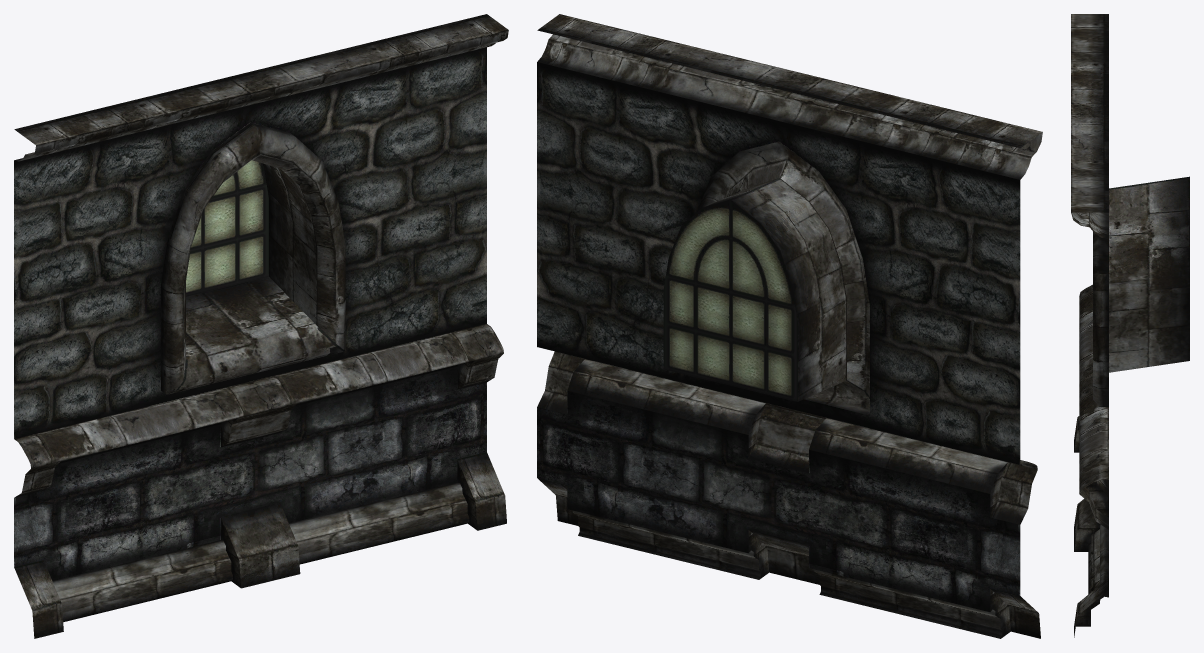
File: window_yellow.dae
The picture shows the model from 3 angles, left to right: view 1: azimuth 30°, elevation 25°; view 2: azimuth 150°, elevation 25°; view 3: azimuth 270°, elevation 25°; orthographic projection. The views are drawn at different scales.
Parts seen in each view (by area): view 1: polySurface105, polySurface102; view 2: polySurface105, polySurface102; view 3: polySurface105.
Part boxes in pixels (x1,y1,x2,y2): polySurface105: (14,14,508,638); polySurface102: (186,160,268,296); polySurface105: (537,14,1042,638); polySurface102: (663,200,797,401); polySurface105: (1071,14,1189,637).
Size of the model in its own units: 4 by 4 by 1.01.
